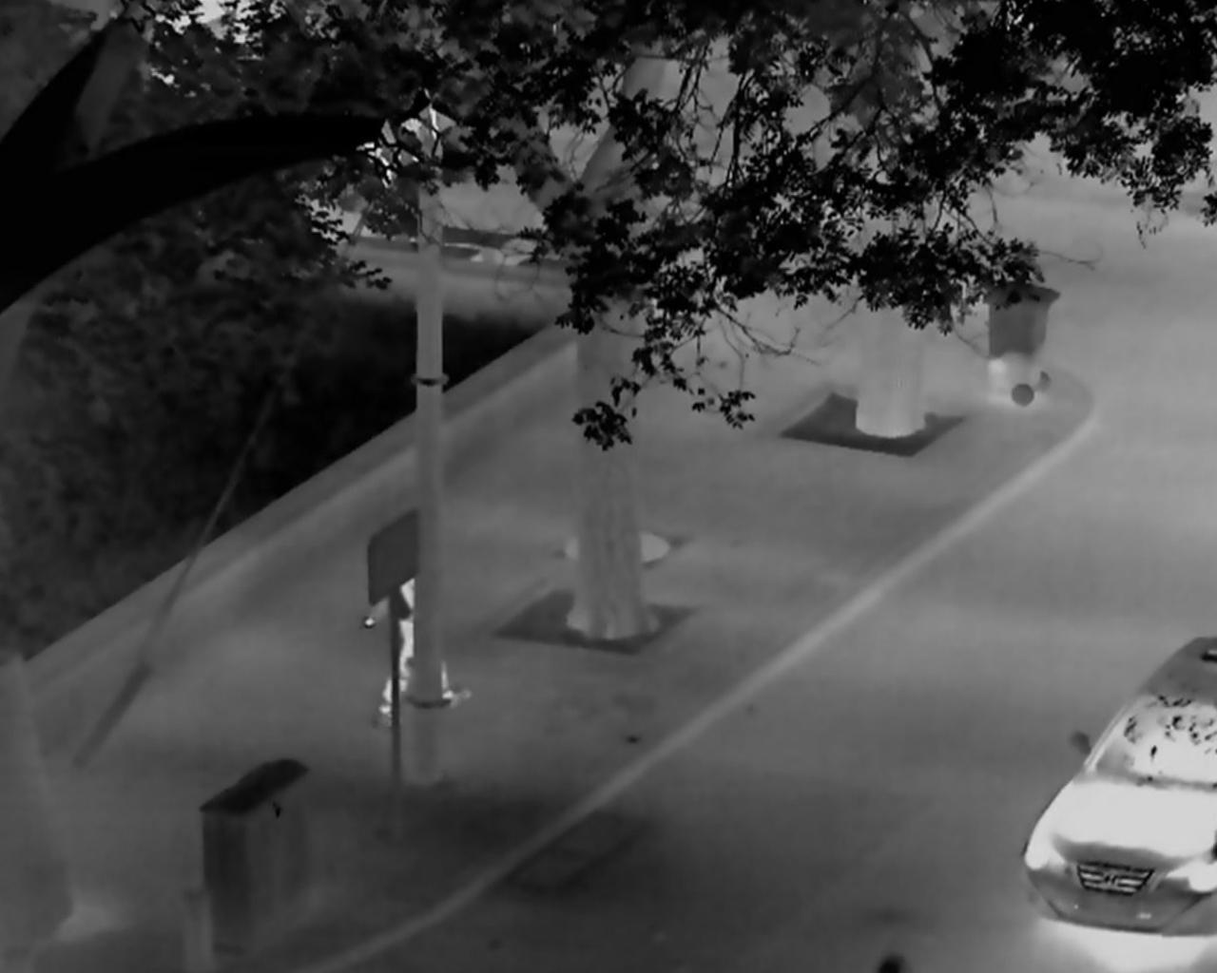person: (363, 576, 471, 726)
